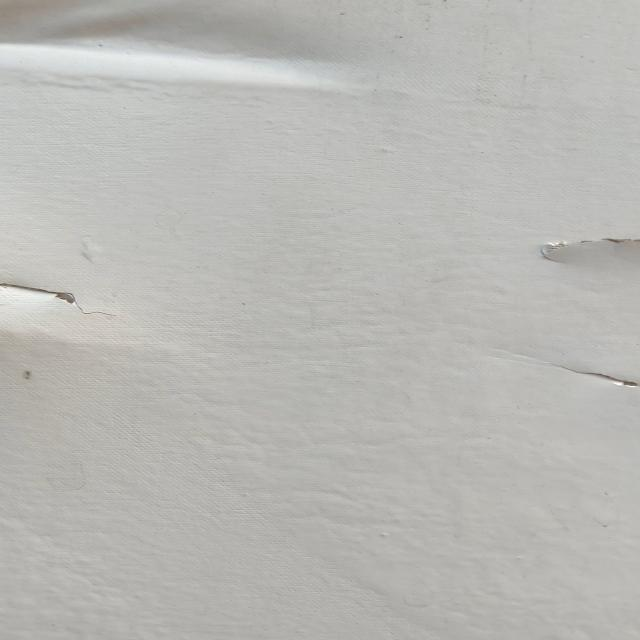Dents or Deformation: (1, 1, 437, 115)
Scratches: (473, 330, 640, 412), (1, 269, 187, 336), (493, 215, 640, 272)
